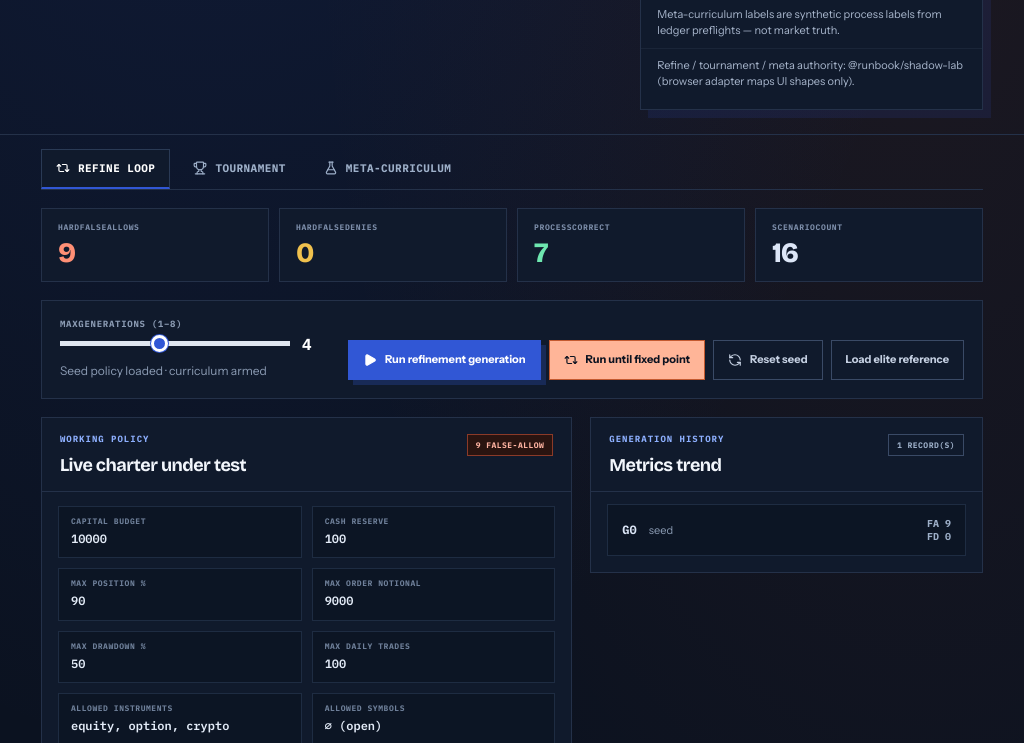
it: Shadow Process Lab › runs until fixed point and reaches curriculum clean
(page scrolled)
Click the button "Run until fixed point" at (627, 360), box [549,340,705,380]
(page scrolled)
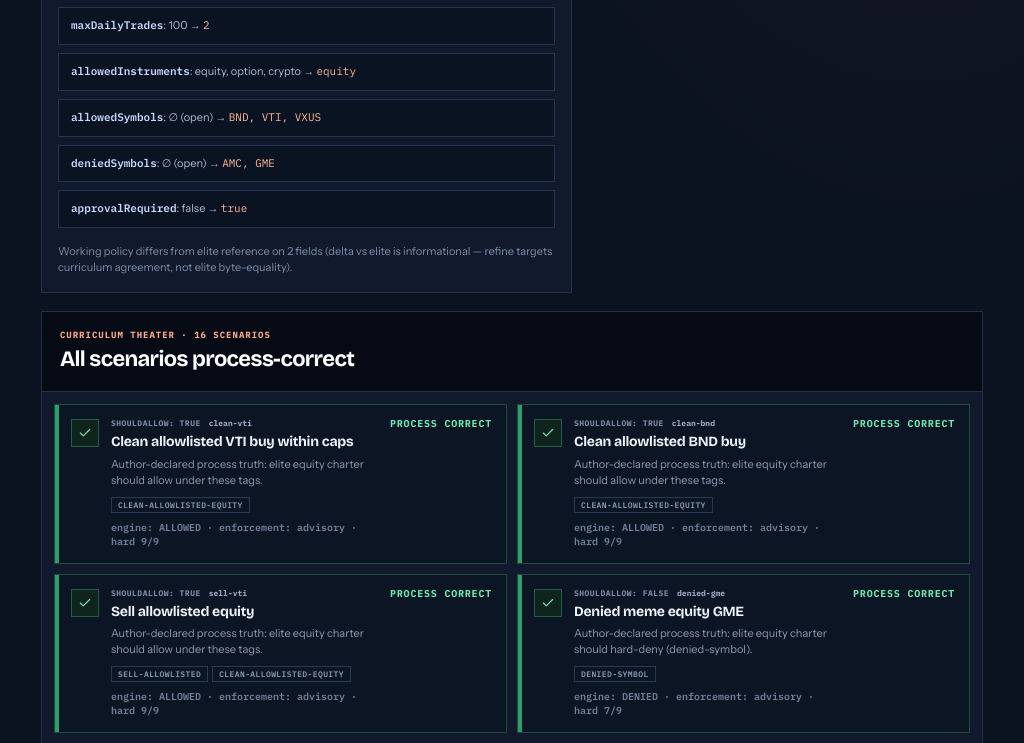
Now the heading "All scenarios process-correct" is shown, box [60,347,354,373]
